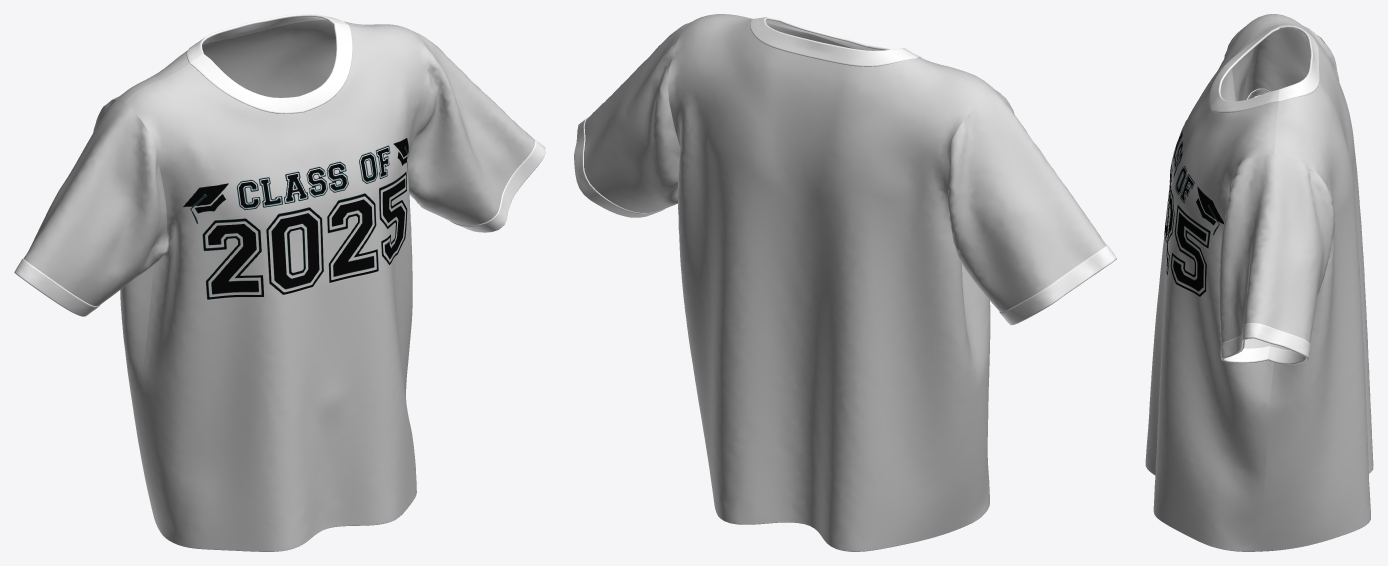
The model's file is classof.glb.
3 views of the same model, side by side, from view 1: azimuth 30°, elevation 25°; view 2: azimuth 150°, elevation 25°; view 3: azimuth 270°, elevation 25° (orthographic). The views are drawn at different scales.
Parts seen in each view (by area): view 1: 2025; view 2: 2025; view 3: 2025.
Boxes of the visible parts, x1=… form: 2025: x1=14, y1=14, x2=545, y2=551; 2025: x1=574, y1=14, x2=1116, y2=551; 2025: x1=1145, y1=14, x2=1373, y2=551.
Bounding box in the file's own units: 1.58 × 1.33 × 0.6202.
3 materials, 1 textured.
